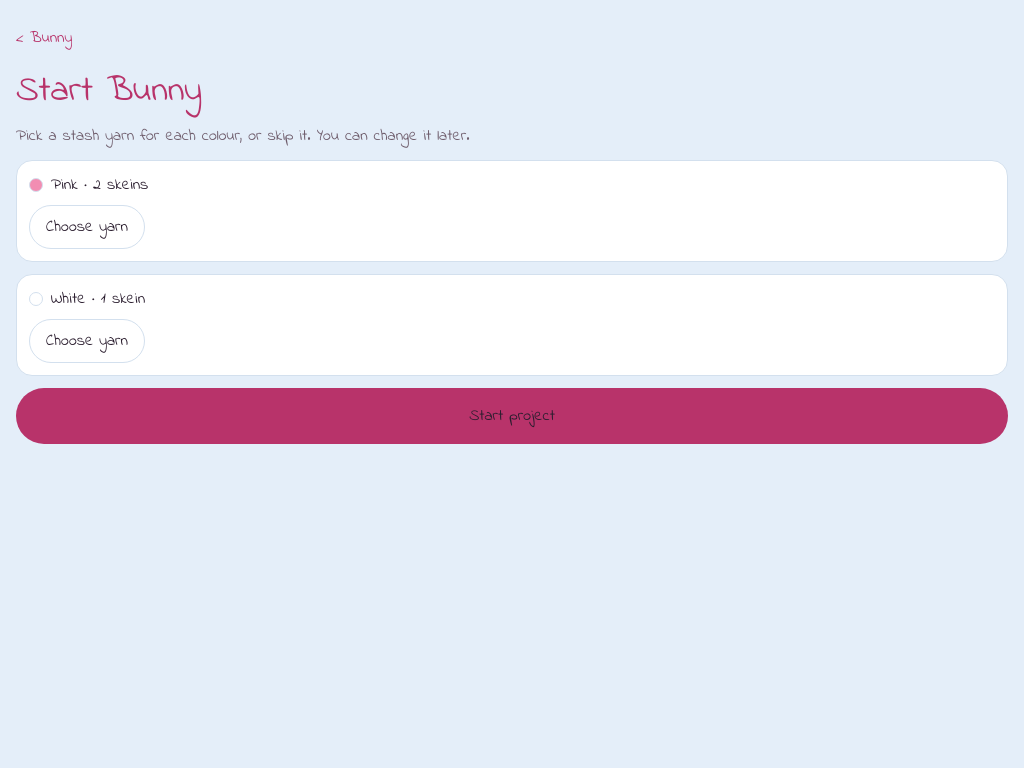
Test case: a line colour with no stash yarn can be switched away from
Click the button with aria-label "Choose yarn for White" at (87, 341), box [29,319,145,363]
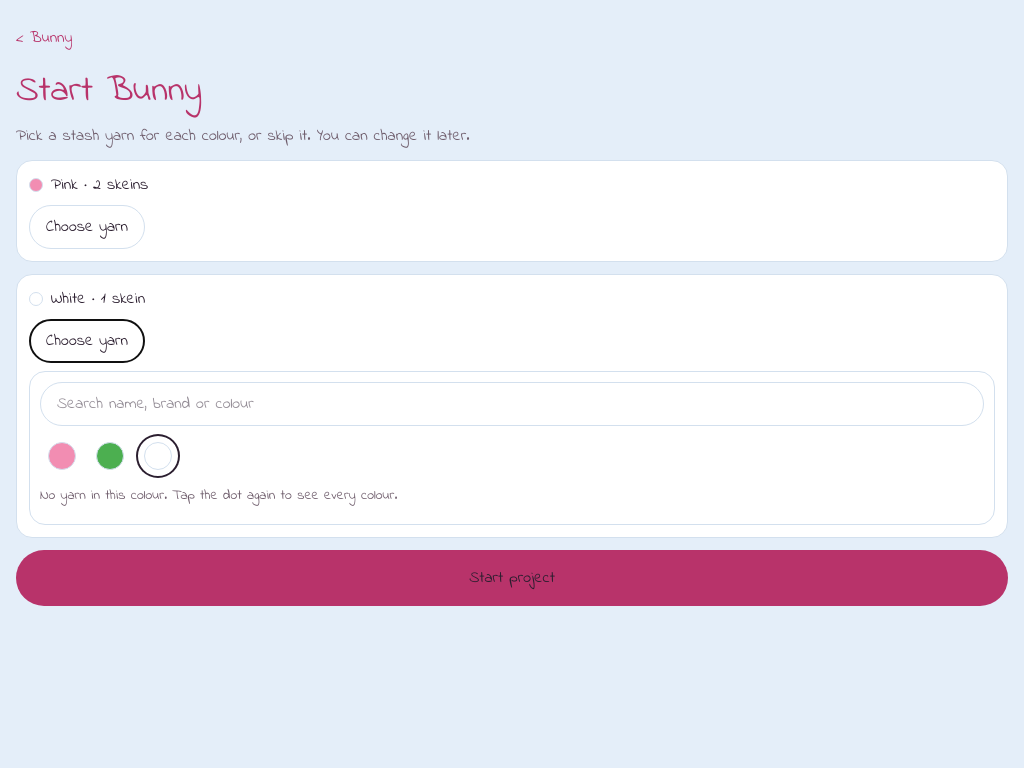
Now the text "No yarn in this colour. Tap the dot again to see every colour." is shown, box [40,485,397,506]
Click the radio button named "White" at (158, 456), box [136,434,180,478]
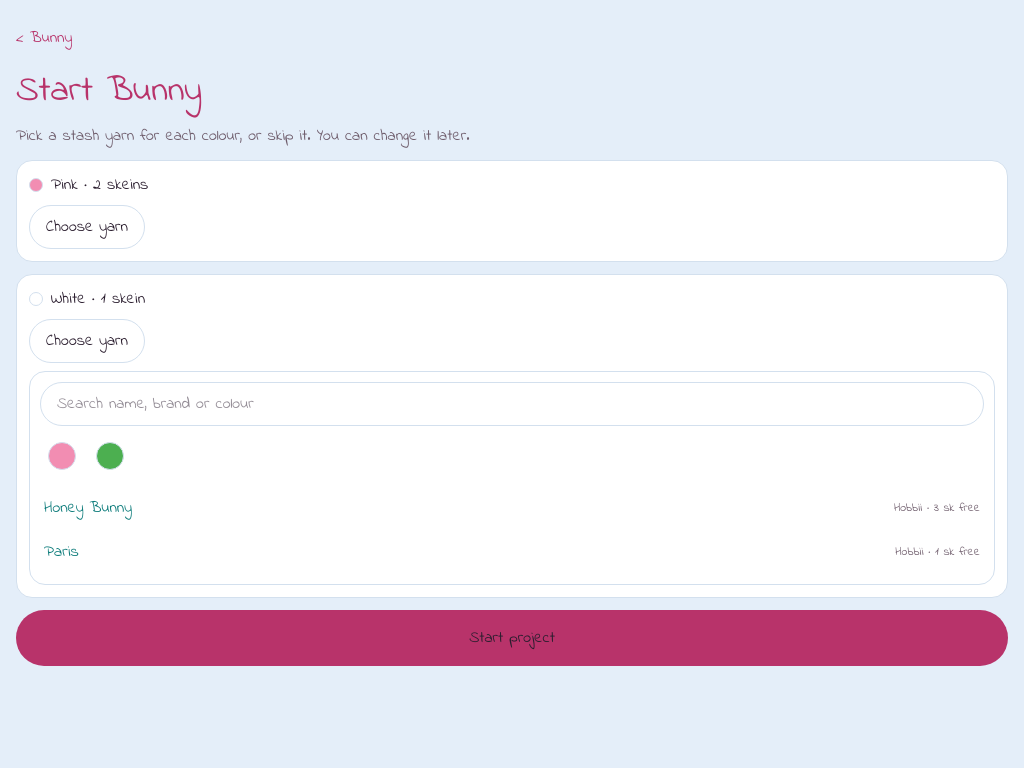
Now the button "Honey Bunny Hobbii · 3 sk free" is shown, box [40,486,984,530]
Now the button "Paris Hobbii · 1 sk free" is shown, box [40,530,984,574]
